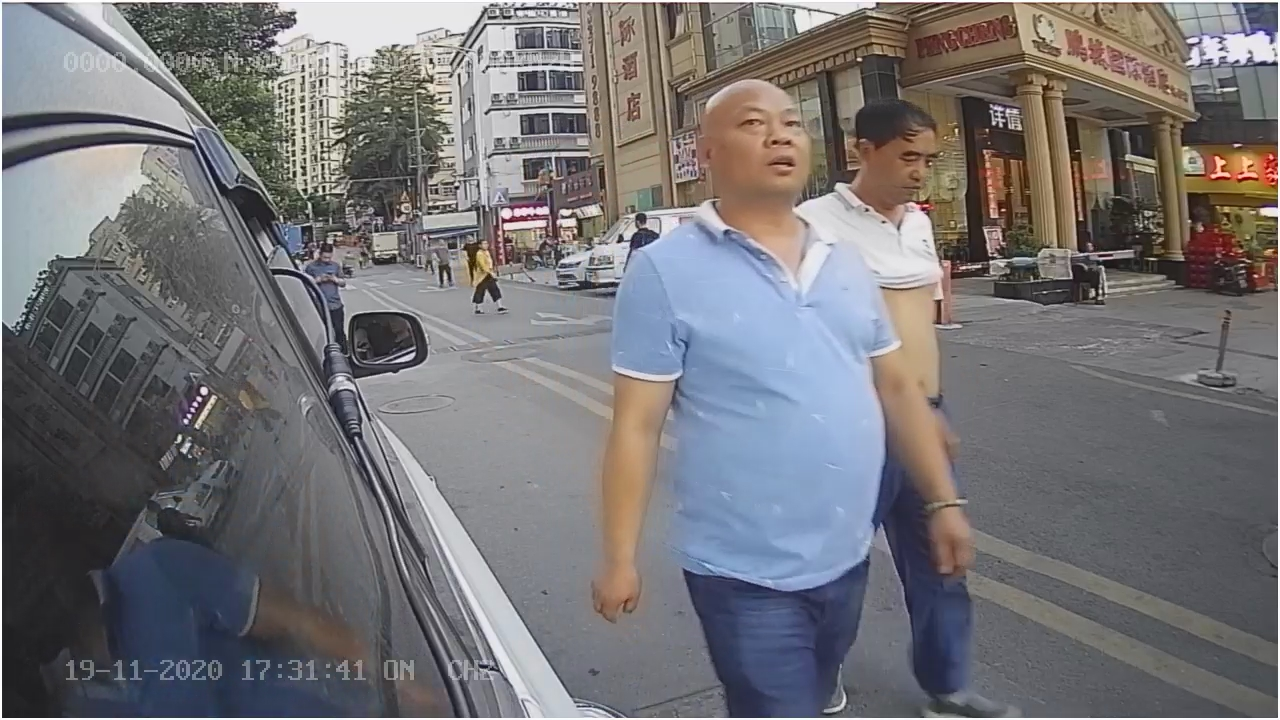person: (604, 82, 881, 669)
